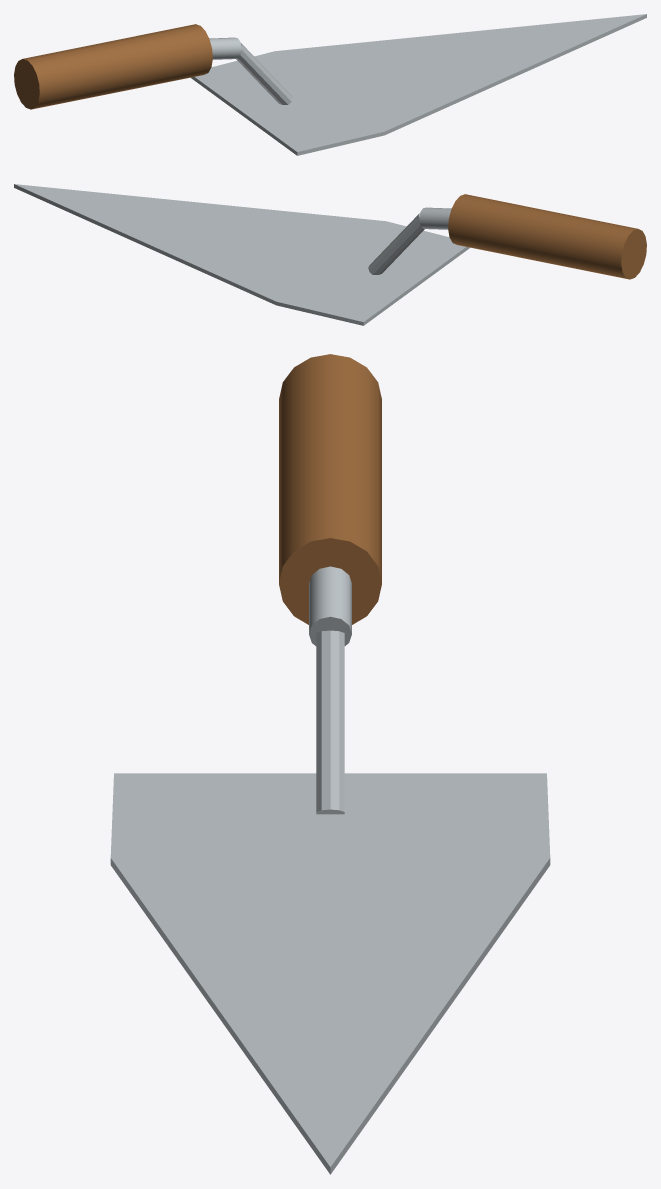
The model's file is trowel.gltf.
3 views of the same model, one above another, from view 1: azimuth 30°, elevation 25°; view 2: azimuth 150°, elevation 25°; view 3: azimuth 270°, elevation 25° (orthographic). The views are drawn at different scales.
Parts seen in each view (by area): view 1: trowel; view 2: trowel; view 3: trowel.
Boxes of the visible parts, x1,y1,x2,y2 form: trowel: [14, 14, 646, 155]; trowel: [14, 184, 646, 325]; trowel: [110, 354, 550, 1174].
Bounding box in the file's own units: 0.4306 × 0.0717 × 0.132.
